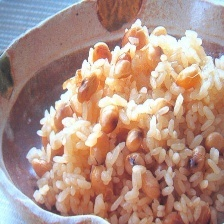rice: (24, 20, 224, 224)
